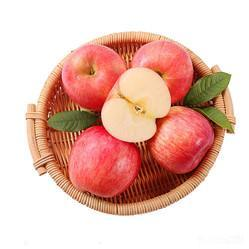apple: (67, 125, 141, 198), (101, 67, 172, 143), (59, 42, 128, 112), (148, 105, 216, 173), (132, 39, 192, 101)
